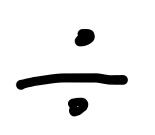div: (16, 29, 128, 116)
